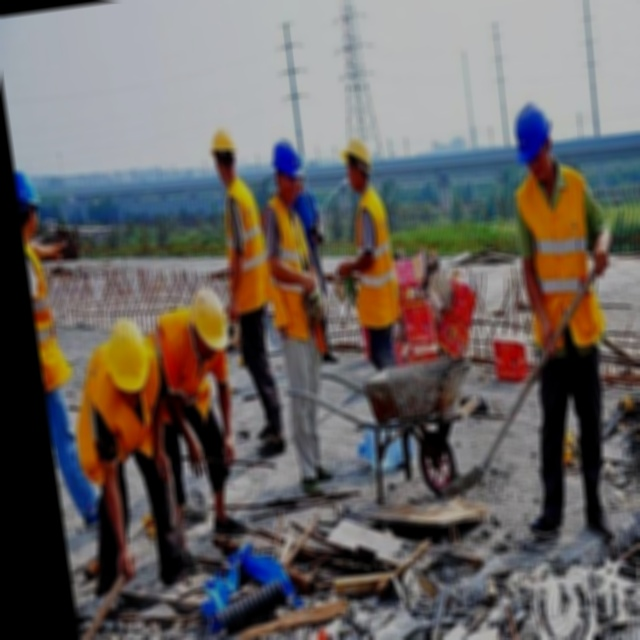Con_Chaleco: (512, 167, 610, 356), (342, 185, 404, 331), (261, 199, 320, 342), (217, 179, 274, 313)
